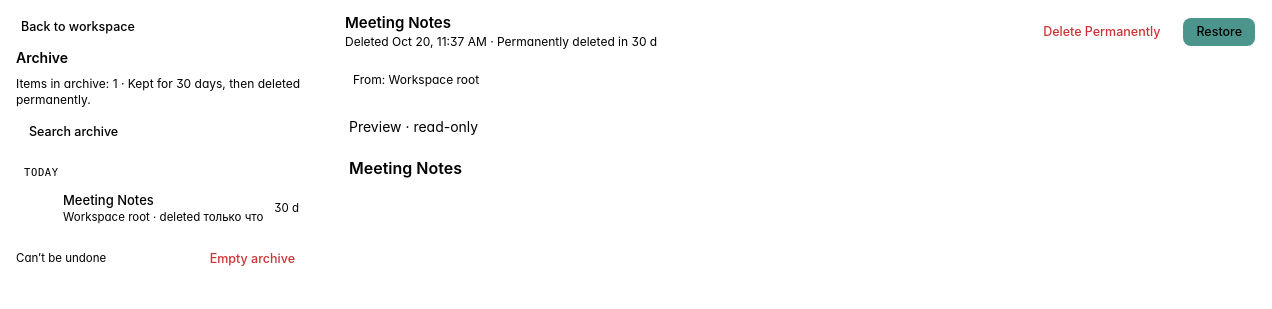
WorkspaceArchiveView › shows no-results state when search query does not match
Type "non-matching query" into the search field with class "trv-search__input" at (162, 131), box [27,122,297,140]
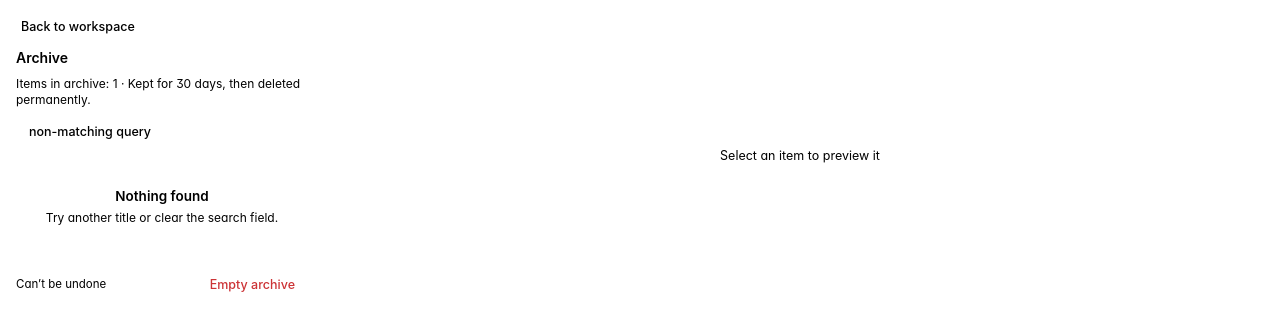
Expected: the element with class "trv-no-results" is shown, [46,188,278,225]
Expected: the text "Nothing found" is shown, [115,188,209,204]
